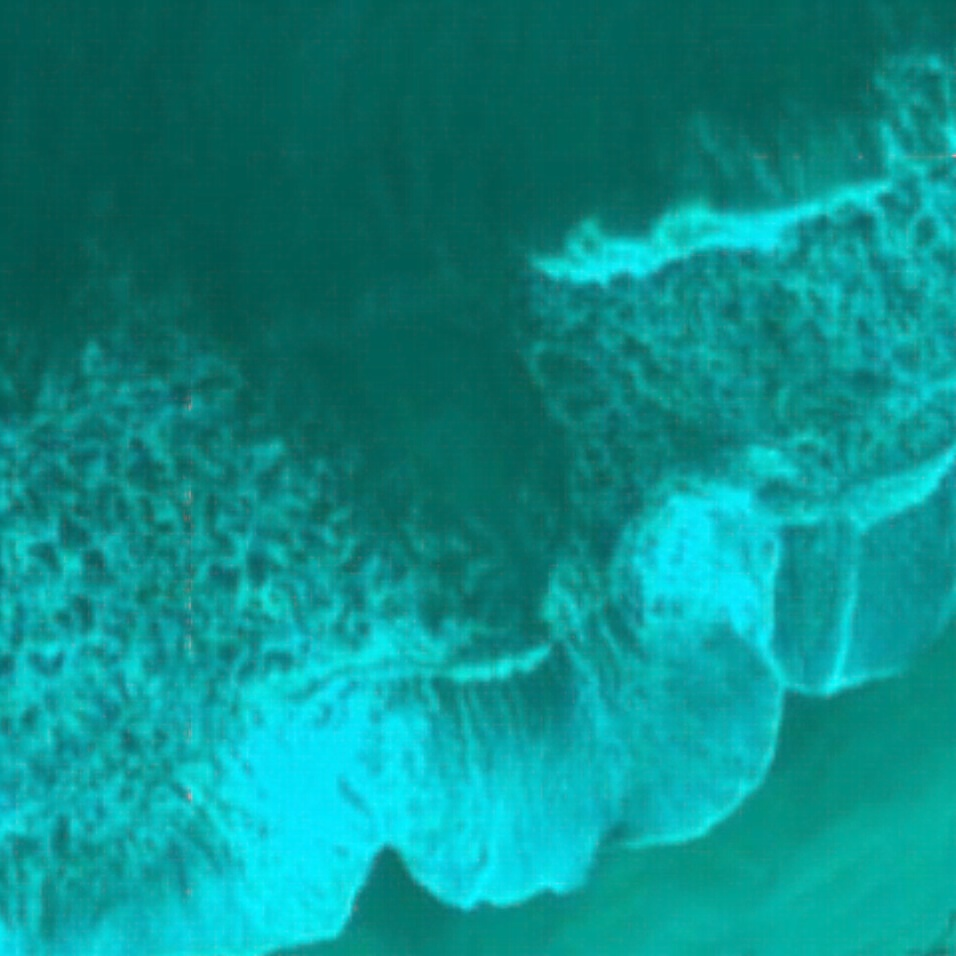rip_current: (212, 227, 717, 799)
